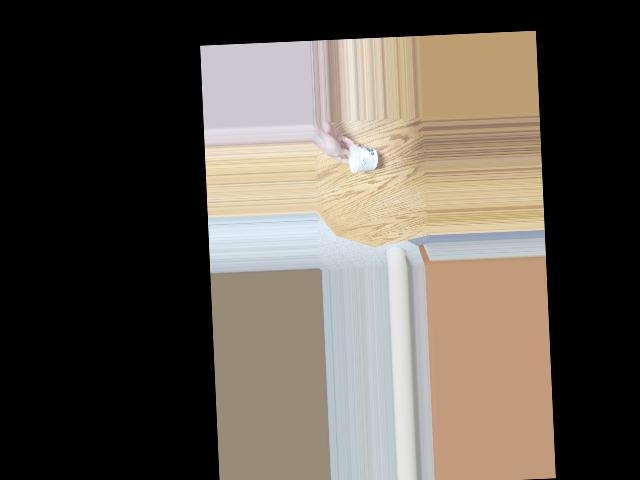cotage: (347, 143, 374, 176)
